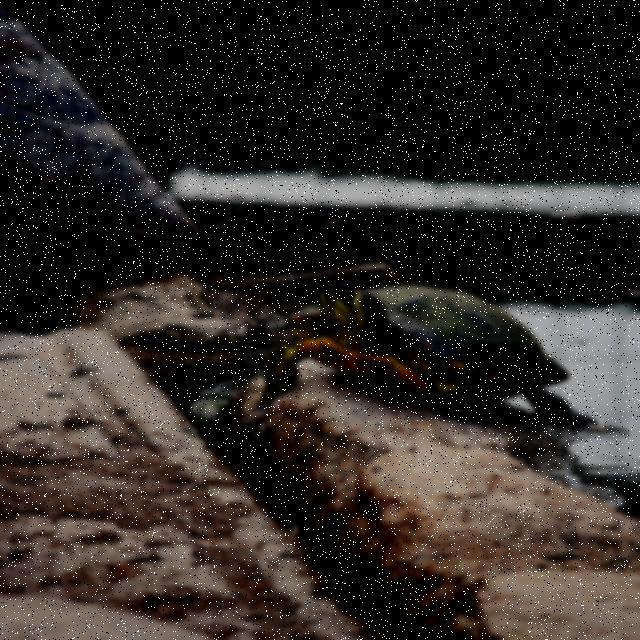tortoise: (339, 248, 575, 420)
